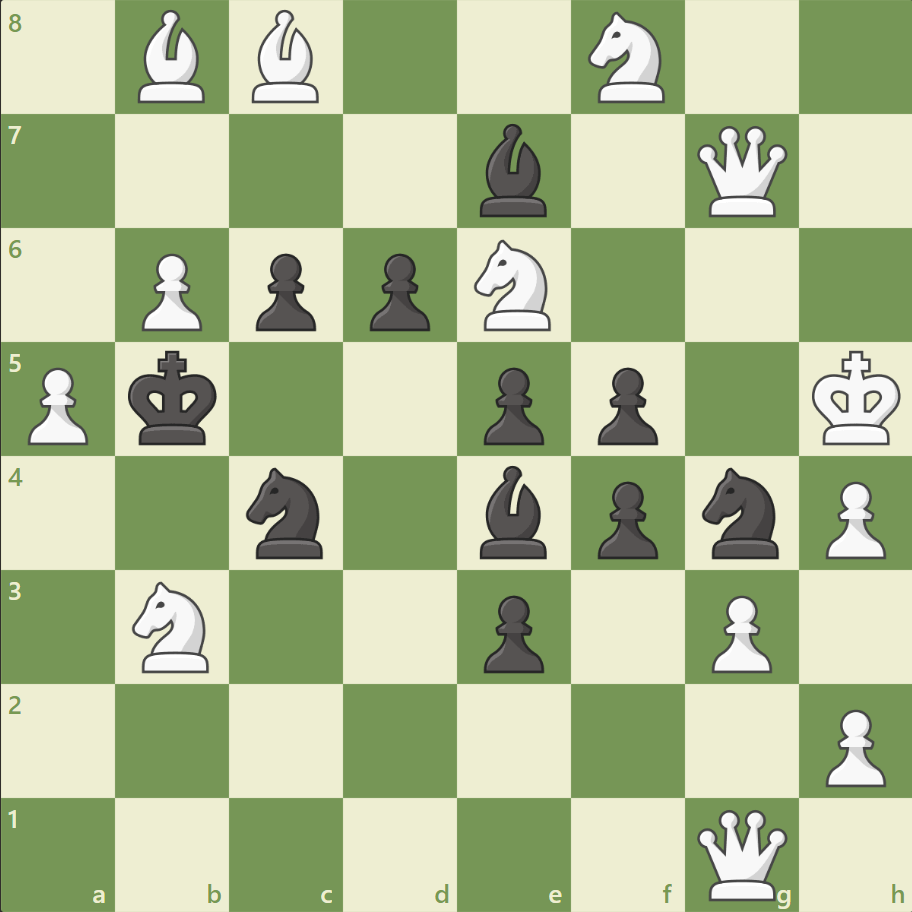B: (131, 6, 215, 109), (244, 6, 328, 109)
K: (806, 344, 906, 452)
N: (124, 575, 222, 677), (579, 7, 676, 110), (465, 234, 562, 337)
P: (133, 246, 208, 337), (20, 359, 95, 450), (701, 586, 776, 677), (815, 473, 889, 564), (815, 700, 889, 791)
Q: (691, 122, 790, 222), (691, 804, 790, 903)
b: (471, 460, 555, 563), (471, 120, 555, 222)
k: (124, 344, 224, 452)
n: (238, 461, 335, 564), (692, 461, 789, 564)
p: (247, 246, 322, 337), (474, 359, 549, 450), (474, 586, 549, 677), (361, 246, 435, 337), (588, 359, 662, 450), (588, 473, 662, 564)
